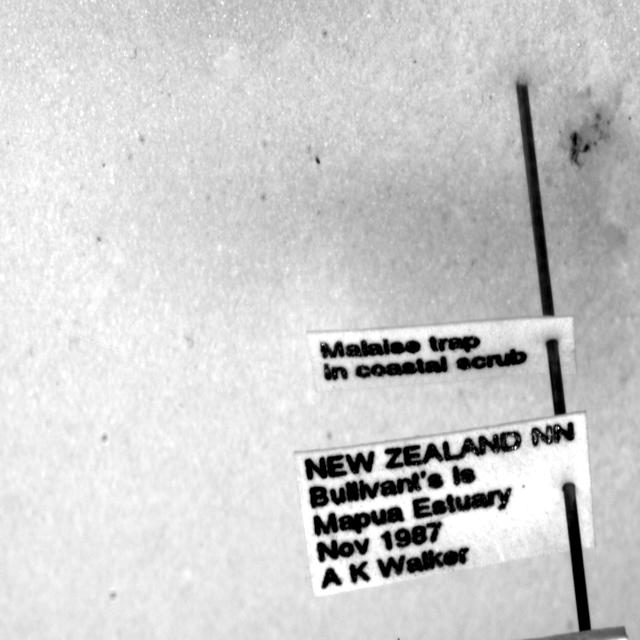typed_label: (295, 412, 595, 596), (308, 315, 576, 392)
